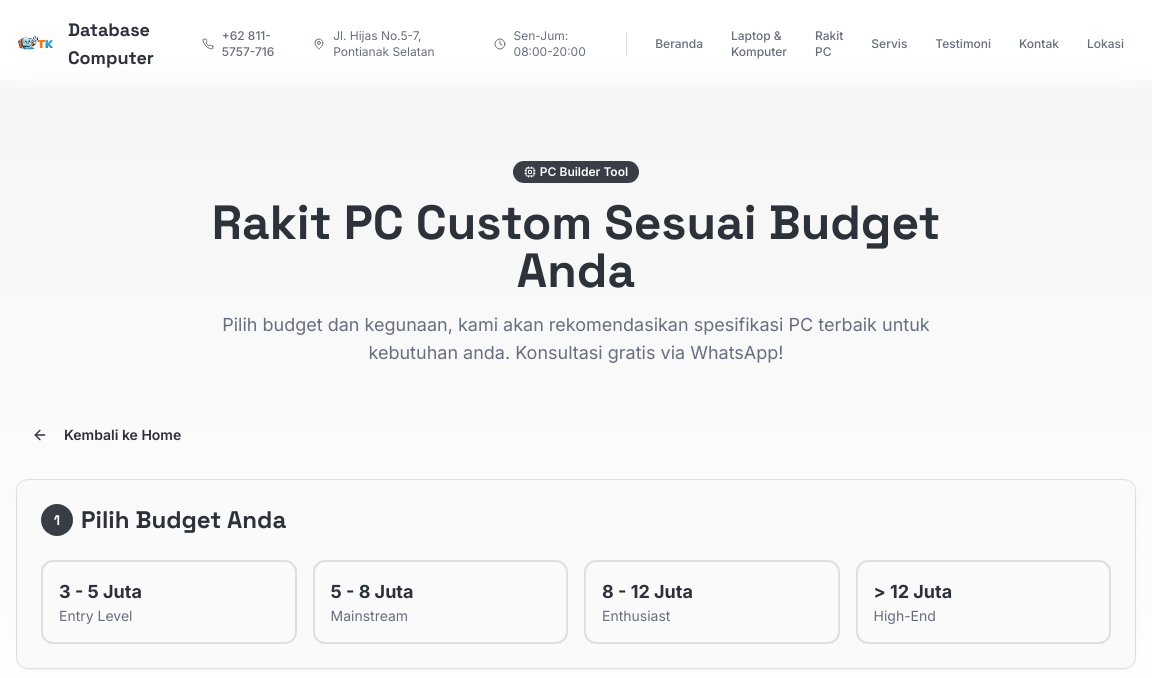
Test: PCBuilder › Disabled Use Case Buttons (Template Availability) › should disable Content Creation for 3-5 Juta budget
// Select 3-5 Juta budget
Click the text "3 - 5 Juta" at [100, 592], box [59,581,142,602]
(page scrolled)
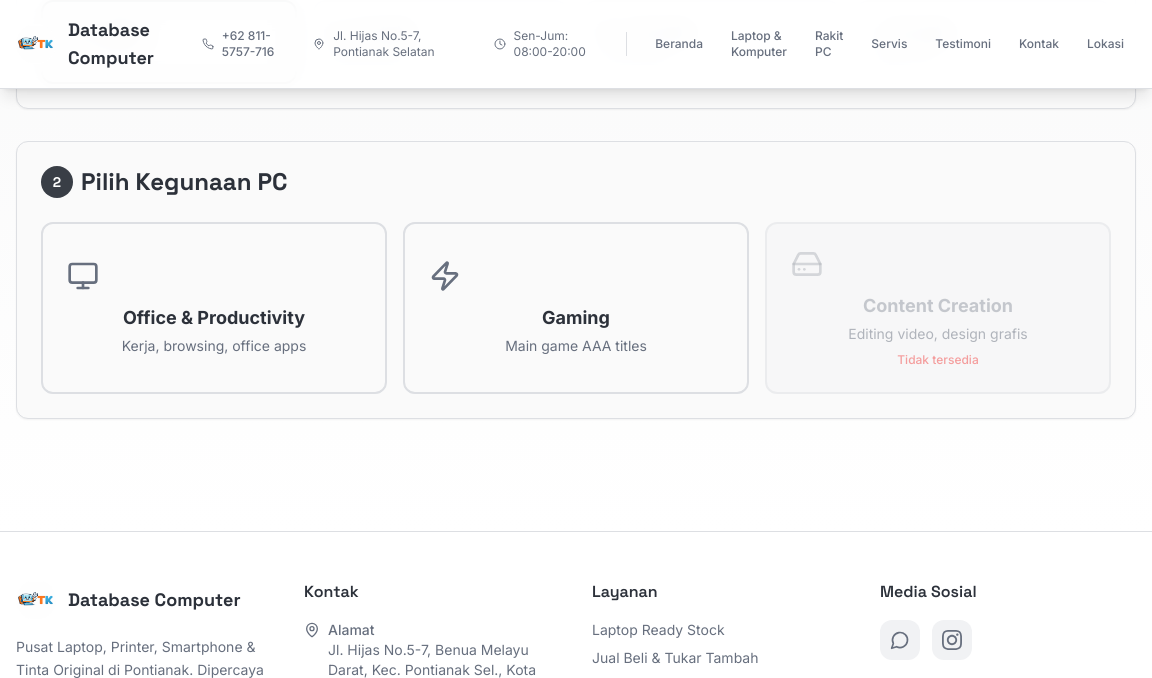
Check: the button "Content Creation" is disabled, box [765,222,1111,394]
Check: the text "Tidak tersedia" is shown, box [897,352,979,367]
